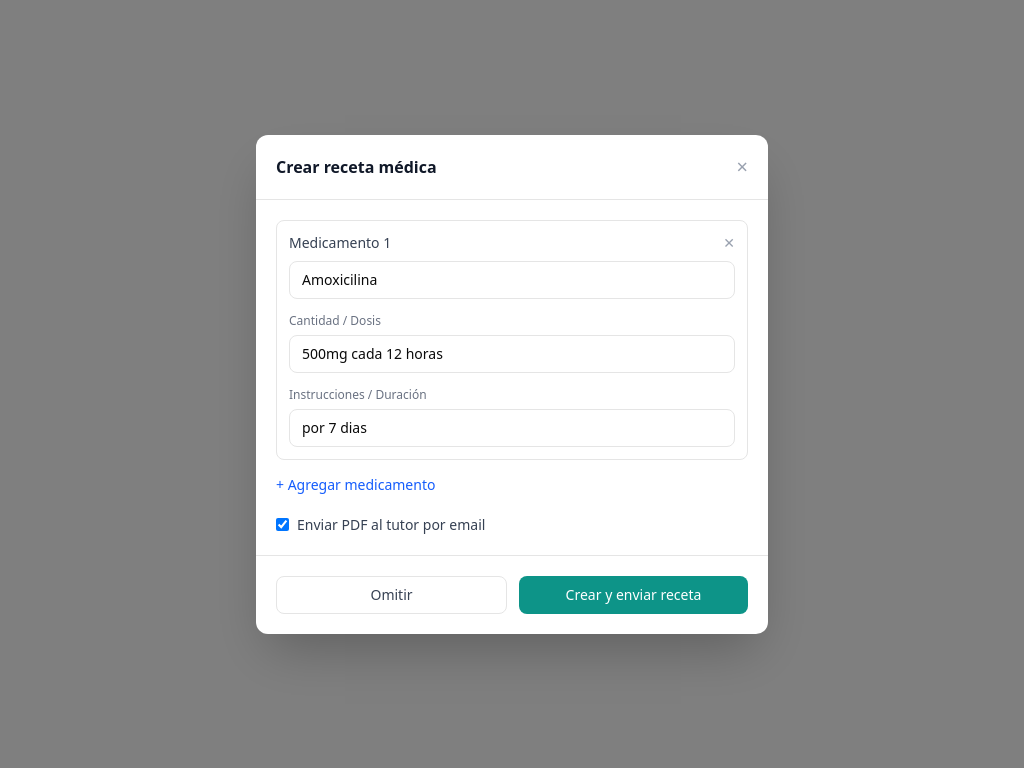
Scenario: permite agregar un medicamento vacío con + Agregar medicamento
Click the button "+ Agregar medicamento" at (356, 484), box [276,474,435,494]
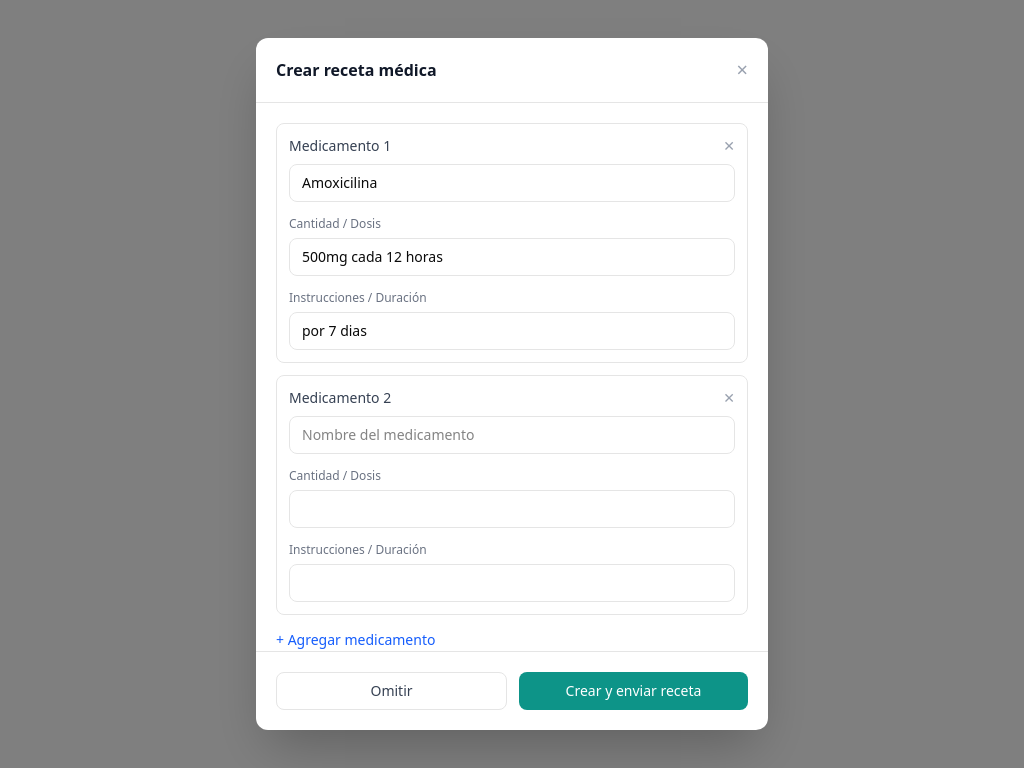
Check: the number of fields with placeholder "Nombre del medicamento" is 2, box [289,164,735,202]; [289,416,735,454]
